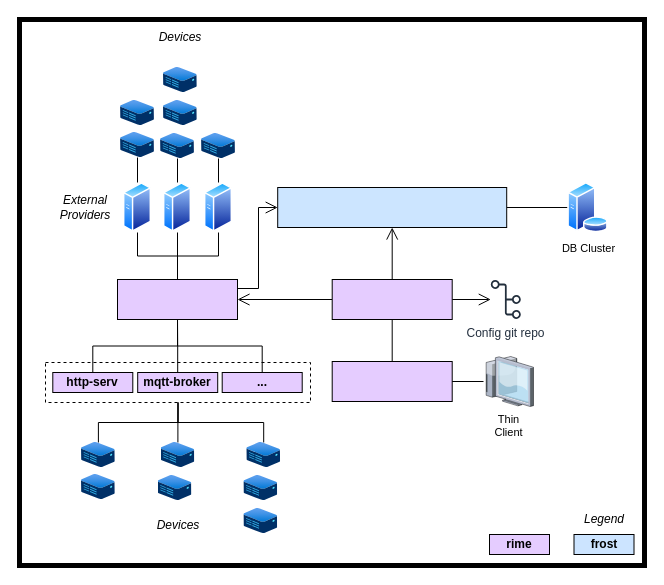
The diagram is 664 pixels wide and 585 high, and some of its shapes have lost their labels. Each missing label, with the centre of its shape:
"ctrl back-end ctrl plane" belongs at point (391, 299).
"FROST Java OGC SensorThings Server Implementation" belongs at point (392, 207).
"ingest back-end python service" belongs at point (177, 299).
"web front-end interface" belongs at point (391, 381).
